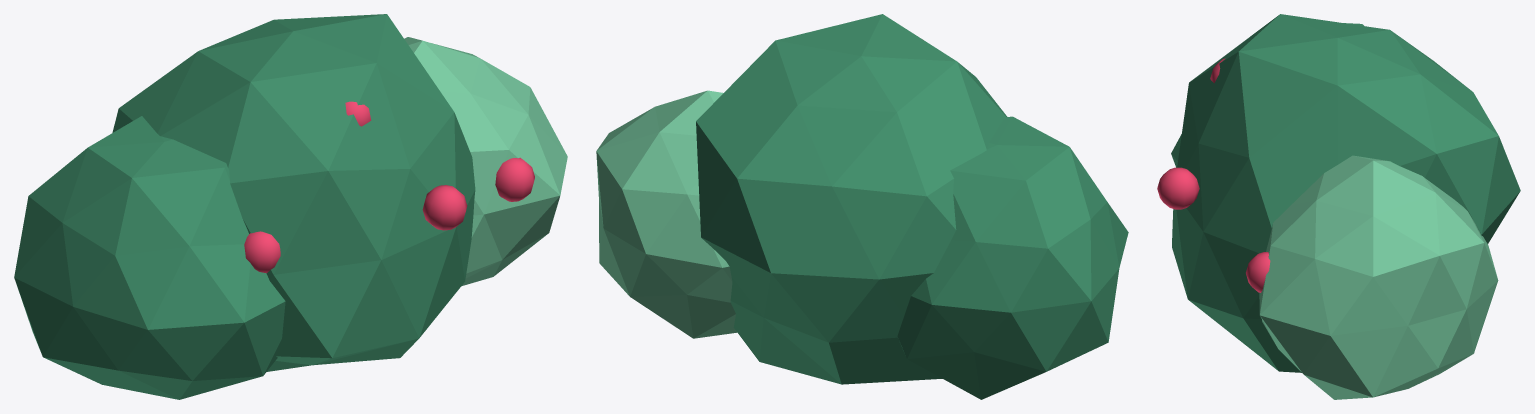
The model's file is bush.glb.
3 views of the same model, side by side, from view 1: azimuth 30°, elevation 25°; view 2: azimuth 150°, elevation 25°; view 3: azimuth 270°, elevation 25° (orthographic). The views are drawn at different scales.
Visible parts, largest first — view 1: B0, B2, B1, Berry0, Berry2, Berry1; view 2: B0, B2, B1; view 3: B0, B1, Berry0, Berry2.
Boxes of the visible parts, x1,y1,x2,y2 form: B0: [112, 14, 475, 371]; B2: [14, 116, 285, 399]; B1: [404, 37, 567, 286]; Berry0: [422, 185, 467, 230]; Berry2: [495, 157, 534, 201]; Berry1: [244, 231, 280, 273]; B0: [696, 14, 1007, 384]; B2: [897, 116, 1128, 399]; B1: [596, 90, 736, 338]; B0: [1172, 14, 1520, 372]; B1: [1259, 155, 1498, 399]; Berry0: [1157, 167, 1199, 209]; Berry2: [1246, 252, 1270, 292].
Bounding box in the file's own units: 1.62 × 0.9707 × 1.03.
